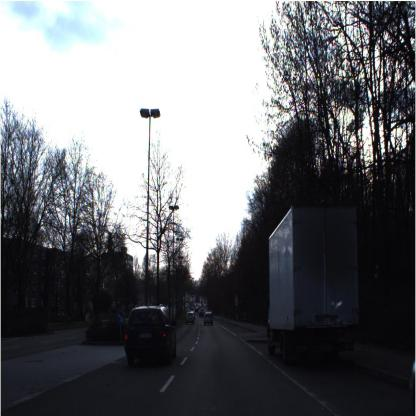mandatory: (115, 308, 124, 326)
